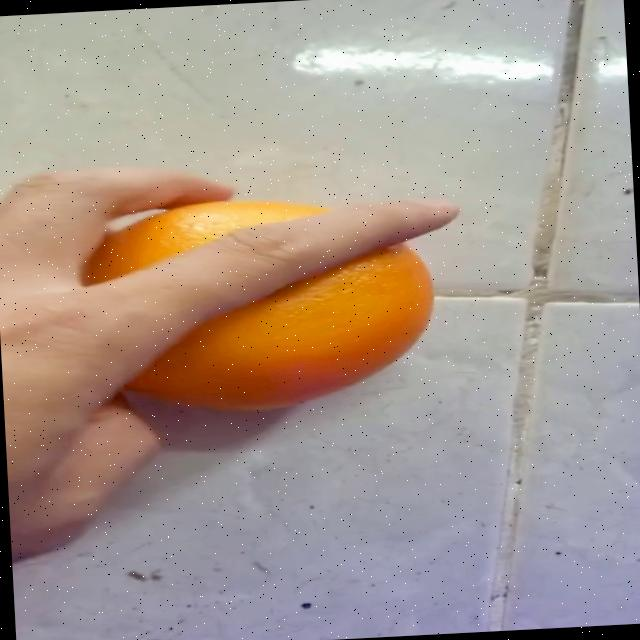orange: (9, 140, 473, 428)
